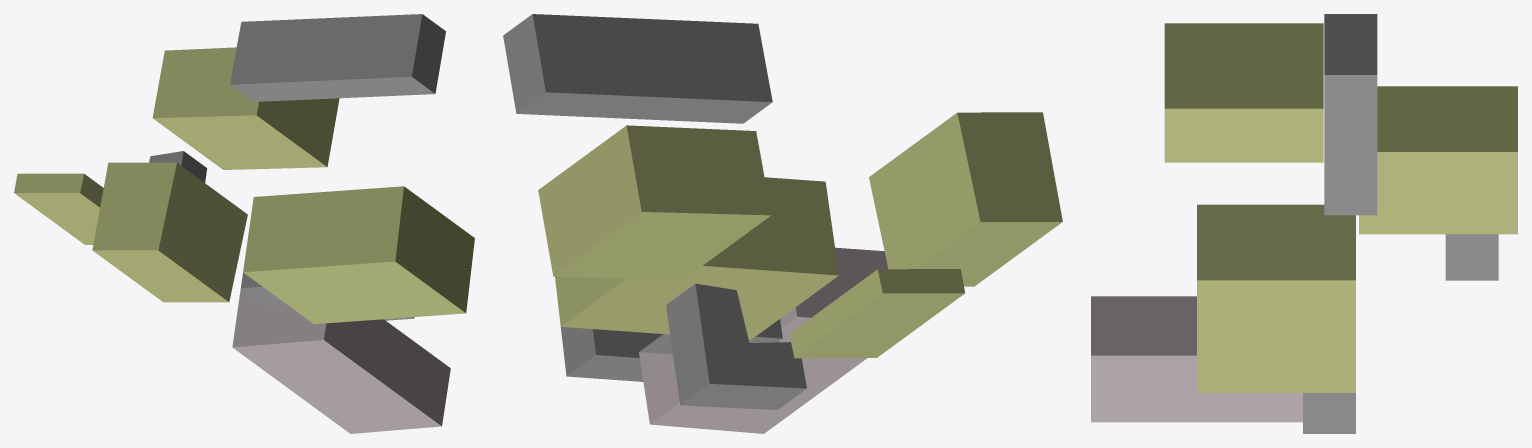
The picture shows the model from 3 angles, left to right: view 1: azimuth 30°, elevation 25°; view 2: azimuth 150°, elevation 25°; view 3: azimuth 270°, elevation 25°; orthographic projection. The views are drawn at different scales.
Parts seen in each view (by area): view 1: 0_1_2_0_3_3_2_0_1_1; view 2: 0_1_2_0_3_3_2_0_1_1; view 3: 0_1_2_0_3_3_2_0_1_1.
Part boxes in pixels (x1,y1,x2,y2): 0_1_2_0_3_3_2_0_1_1: (14, 14, 474, 433); 0_1_2_0_3_3_2_0_1_1: (503, 14, 1062, 433); 0_1_2_0_3_3_2_0_1_1: (1091, 14, 1517, 433).
Bounding box in the file's own units: 25.95 × 23.03 × 24.18.
